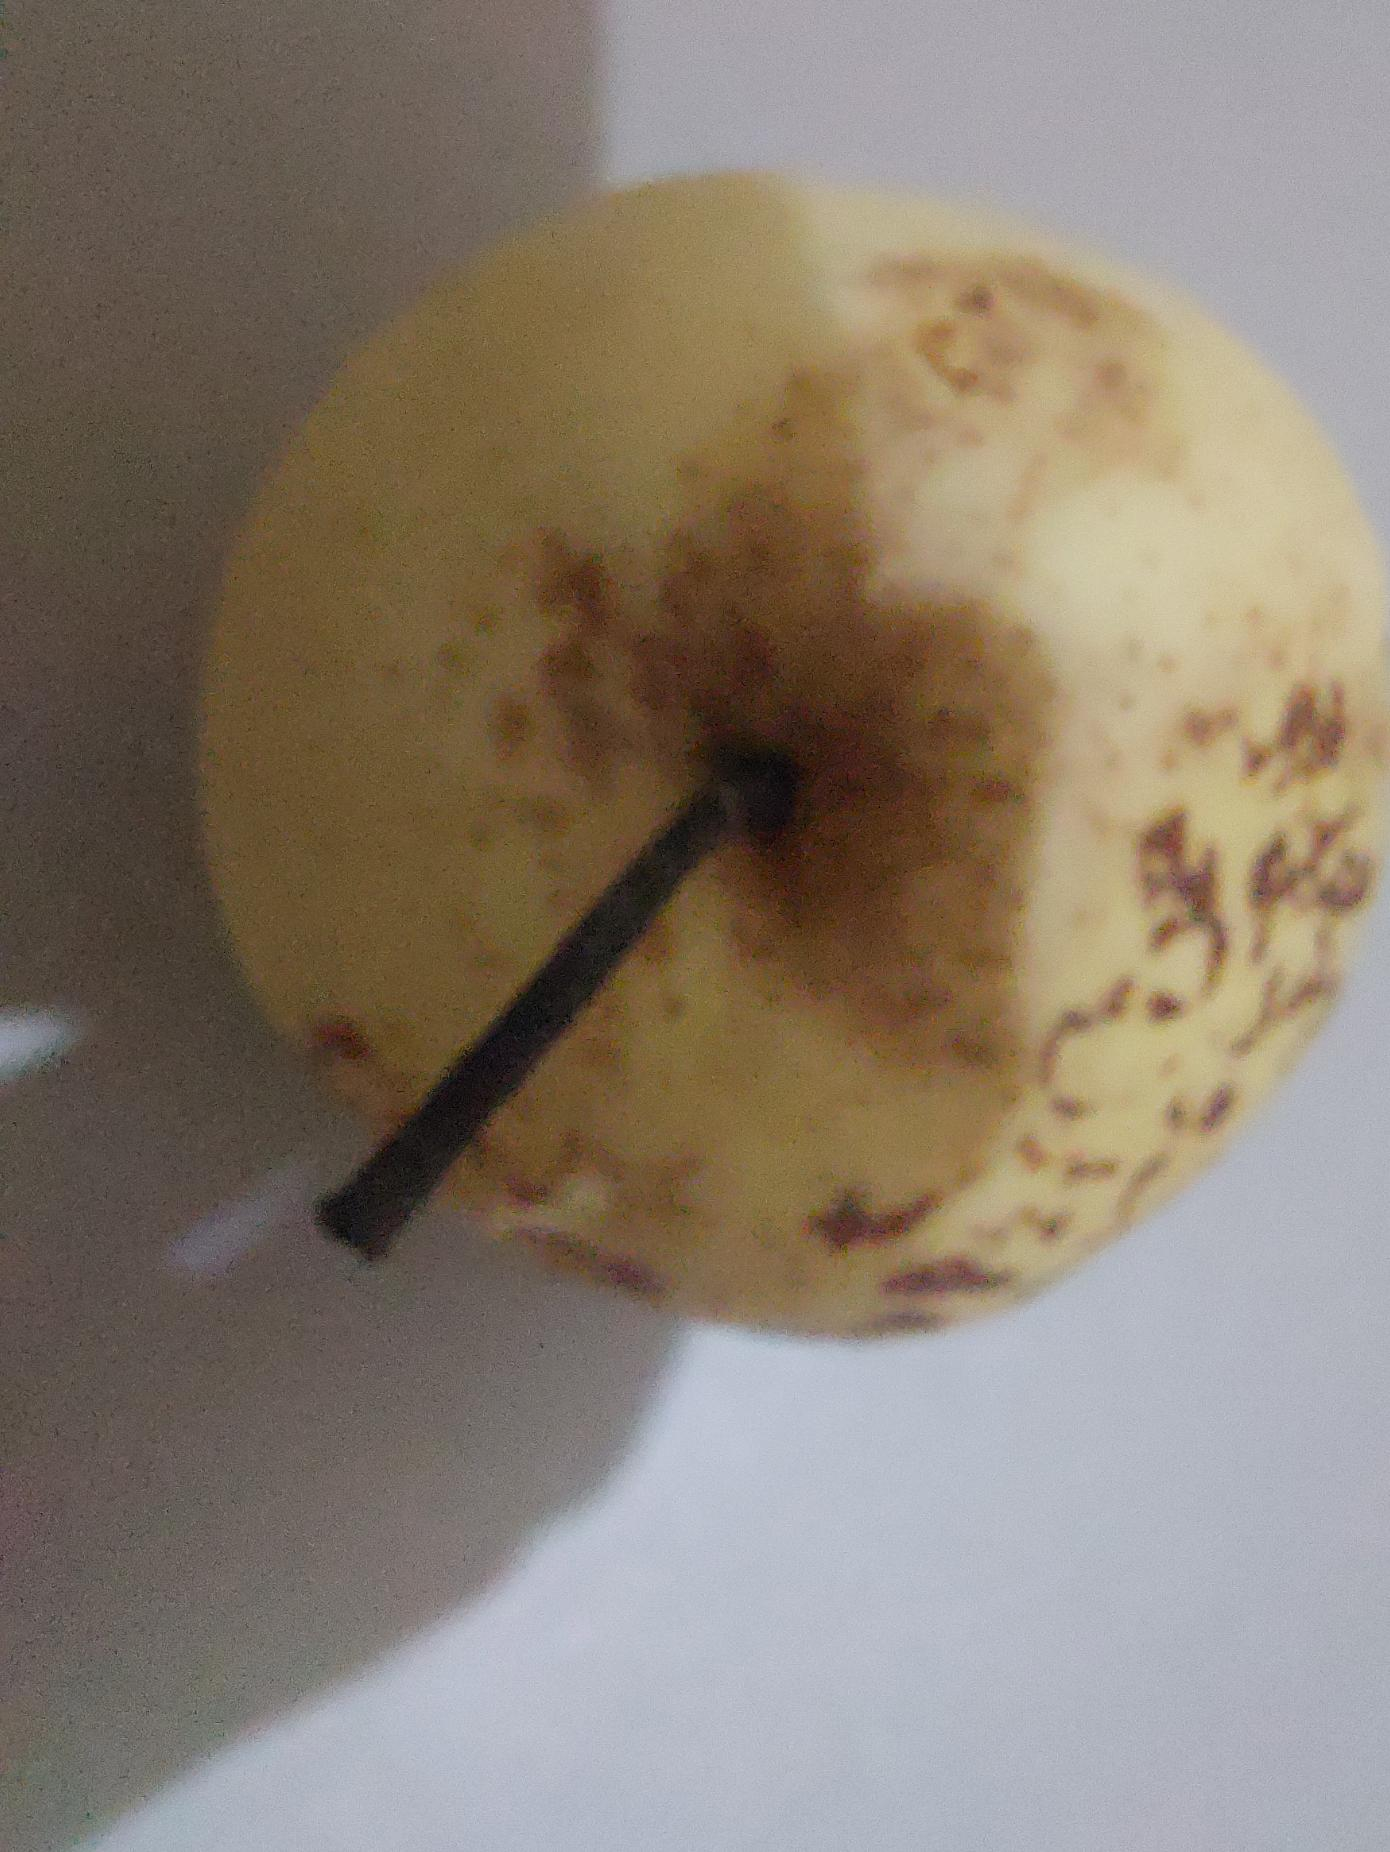Bad Pear: (171, 161, 1390, 1335)
